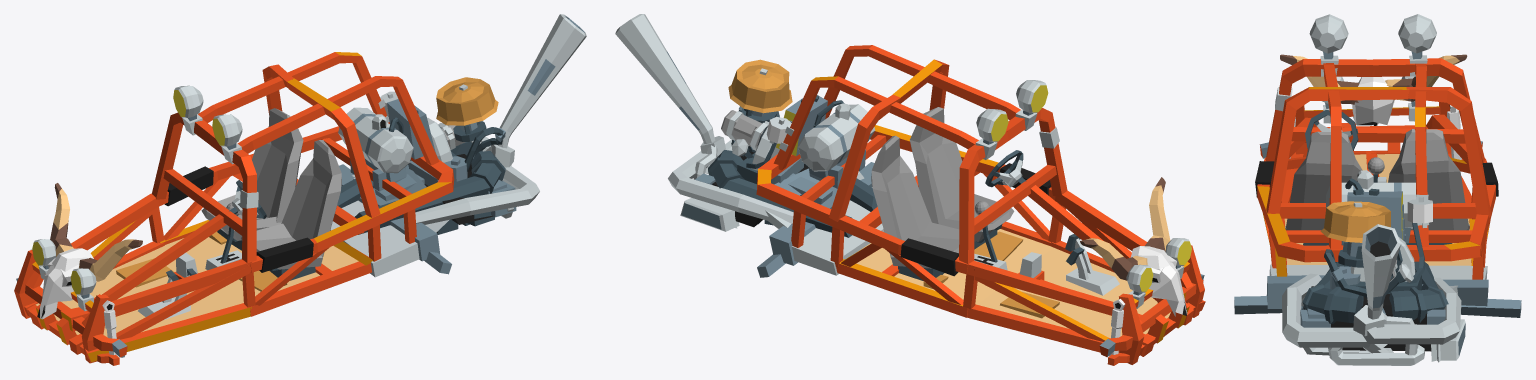
The model's file is BuggyBody.glb.
3 views of the same model, side by side, from view 1: azimuth 30°, elevation 25°; view 2: azimuth 150°, elevation 25°; view 3: azimuth 270°, elevation 25° (orthographic). The views are drawn at different scales.
Parts seen in each view (by area): view 1: group1351783712, group1586929722, group407306559, group1345467828, group2069554521, group1522625764, group1384551819, group237616497, group610141389, group195980357, group2059694420, group1401189384 (+27 smaller); view 2: group1351783712, group1345467828, group407306559, group1586929722, group2069554521, group1384551819, group237616497, group195980357, group1522625764, group2059694420, group683697160, group1734588590 (+27 smaller); view 3: group1351783712, group237616497, group1384551819, group407306559, group1586929722, group610141389, group2069554521, group1522625764, group195980357, group1431720334, group1054260736, group1512111399 (+23 smaller).
Part boxes in pixels (<box>): group1351783712: <box>337,14,586,234</box>; group1586929722: <box>241,140,341,280</box>; group407306559: <box>201,108,303,250</box>; group1345467828: <box>35,237,319,337</box>; group2069554521: <box>37,183,142,319</box>; group1522625764: <box>237,76,439,165</box>; group1384551819: <box>152,112,256,265</box>; group237616497: <box>262,64,380,217</box>; group610141389: <box>250,156,454,272</box>; group195980357: <box>198,52,389,123</box>; group2059694420: <box>338,107,413,173</box>; group1401189384: <box>81,259,252,326</box>; group1351783712: <box>615,14,877,237</box>; group1345467828: <box>894,229,1170,338</box>; group407306559: <box>871,135,959,281</box>; group1586929722: <box>910,107,1014,249</box>; group2069554521: <box>1080,177,1187,316</box>; group1384551819: <box>959,108,1067,263</box>; group237616497: <box>829,59,949,221</box>; group195980357: <box>773,76,978,170</box>; group1522625764: <box>824,45,1020,120</box>; group2059694420: <box>798,104,875,171</box>; group683697160: <box>756,183,968,274</box>; group1734588590: <box>967,260,1142,323</box>; group1351783712: <box>1282,196,1465,365</box>; group237616497: <box>1266,87,1491,217</box>; group1384551819: <box>1266,58,1484,162</box>; group407306559: <box>1388,129,1469,244</box>; group1586929722: <box>1285,131,1362,245</box>; group610141389: <box>1257,159,1481,262</box>; group2069554521: <box>1280,54,1467,125</box>; group1522625764: <box>1323,63,1341,249</box>; group195980357: <box>1415,63,1428,247</box>; group1431720334: <box>1234,296,1521,317</box>; group1054260736: <box>1264,203,1476,218</box>; group1512111399: <box>1291,127,1465,143</box>.
Size of the model in its own units: 3.52 by 1.24 by 1.4.
